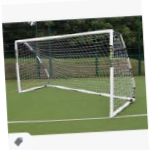goals: (13, 26, 137, 122)
